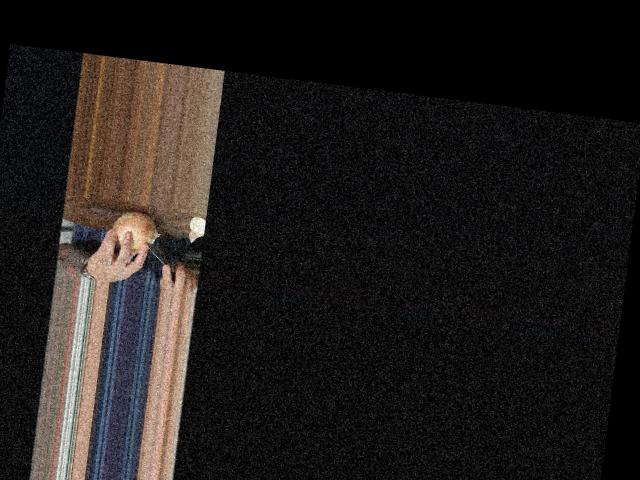onion: (107, 211, 159, 254)
